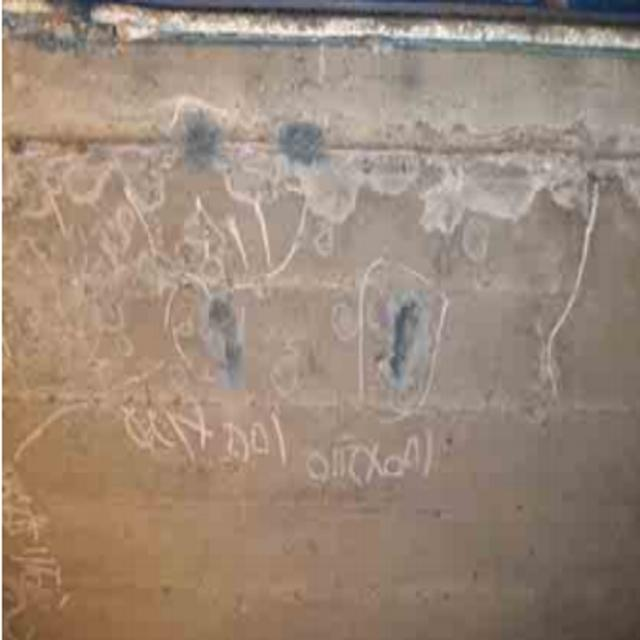spalling: (21, 90, 634, 224), (170, 262, 251, 388), (366, 278, 440, 403)
